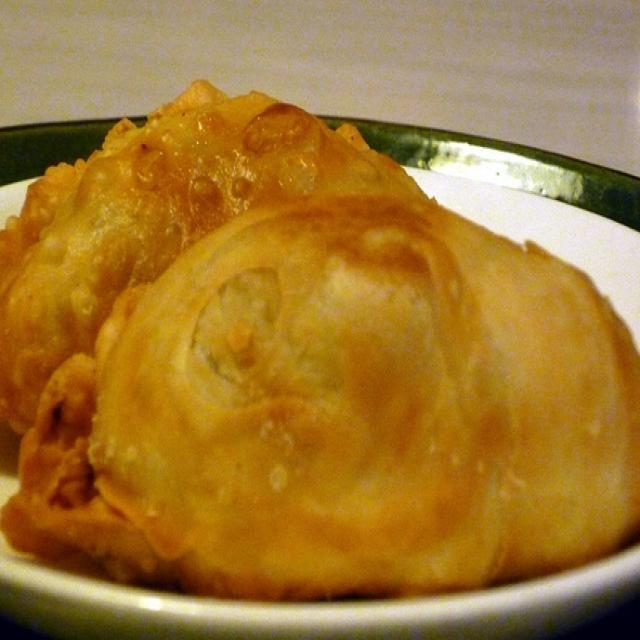炸货点心: (5, 68, 636, 602)
